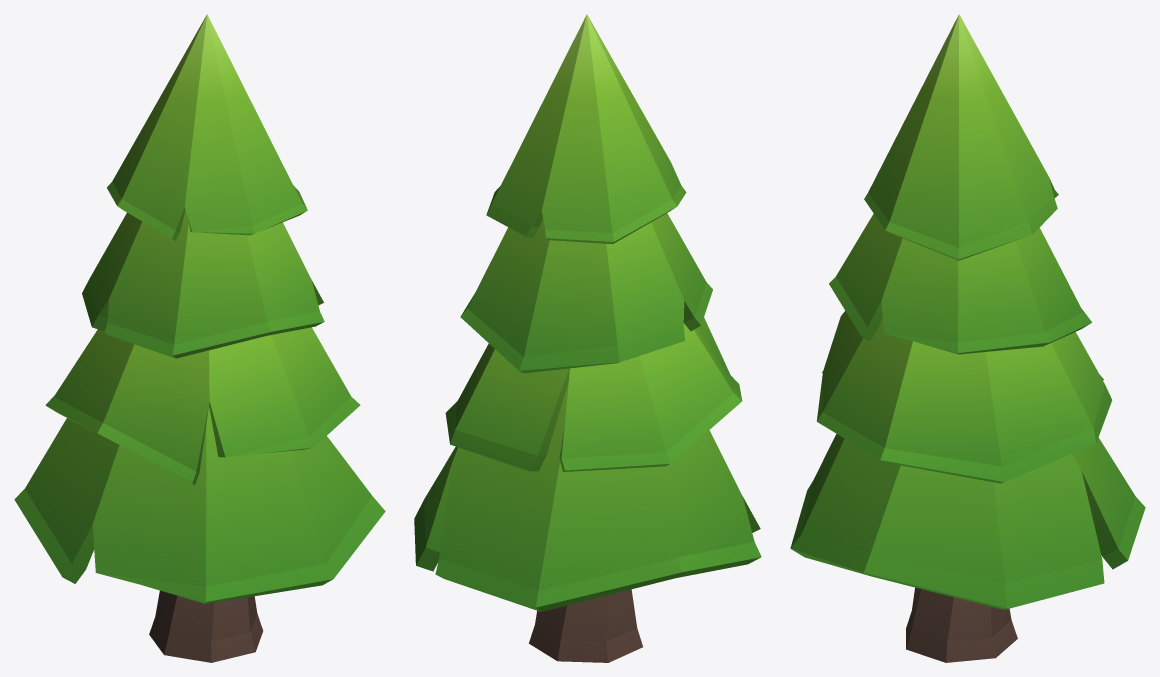
The model's file is ConiferTree.fbx.
The picture shows the model from 3 angles, left to right: view 1: azimuth 30°, elevation 25°; view 2: azimuth 150°, elevation 25°; view 3: azimuth 270°, elevation 25°; orthographic projection.
Parts seen in each view (by area): view 1: Cone; view 2: Cone; view 3: Cone.
Part boxes in pixels (<box>): Cone: <box>14,14,385,662</box>; Cone: <box>414,14,761,662</box>; Cone: <box>790,14,1145,662</box>.
Size of the model in its own units: 348 by 675 by 348.
